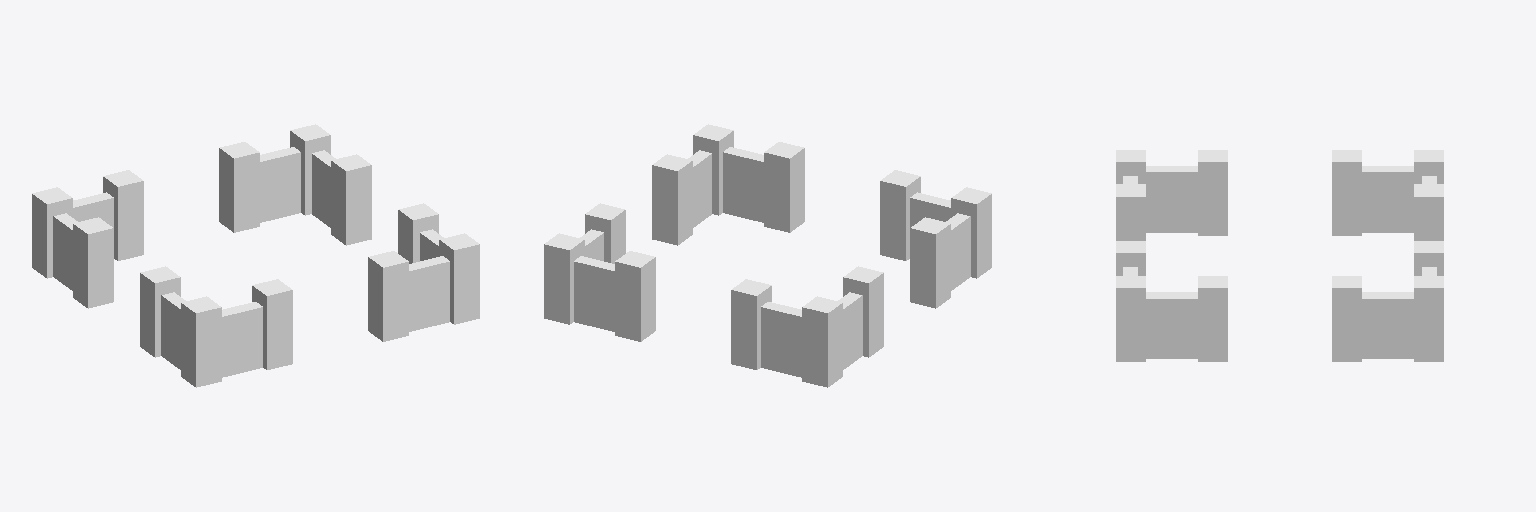
The model's file is struct-6-barricade.obj.
The picture shows the model from 3 angles: view 1: azimuth 30°, elevation 25°; view 2: azimuth 150°, elevation 25°; view 3: azimuth 270°, elevation 25°; orthographic projection.
Parts seen in each view (by area): view 1: barricade; view 2: barricade; view 3: barricade.
Part boxes in pixels (x1,y1,x2,y2): barricade: (32,124,479,387); barricade: (544,124,991,387); barricade: (1116,150,1443,361).
Bounding box in the file's own units: 4.4 × 1.1 × 4.4.